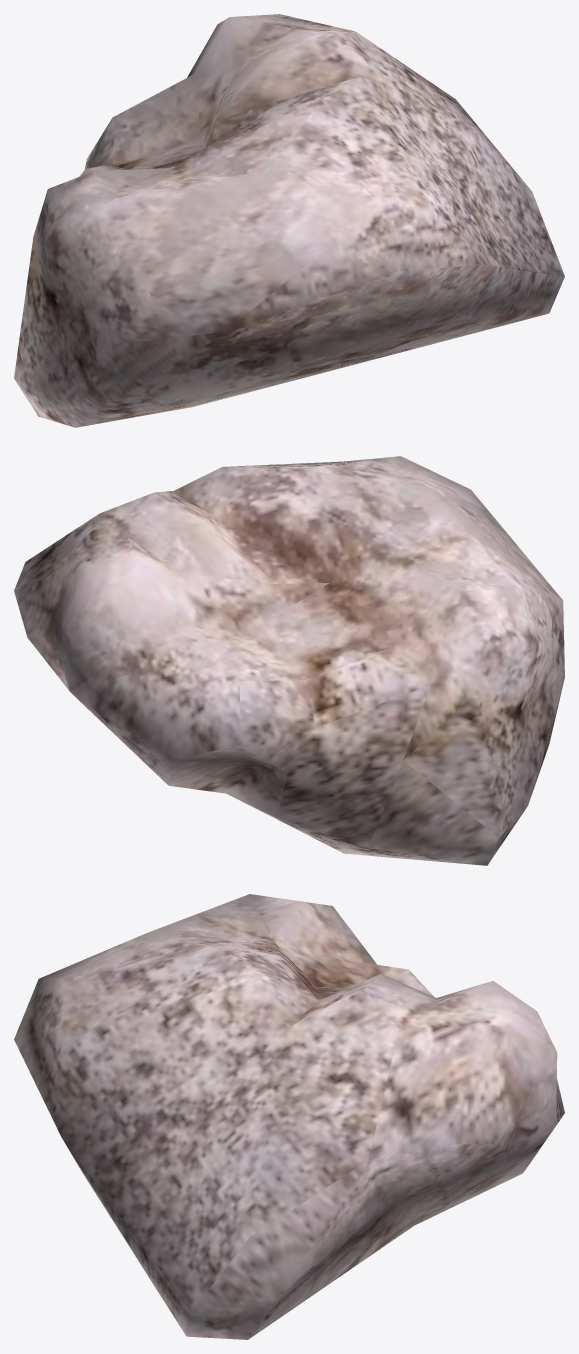
The model's file is rock059.glb.
The picture shows the model from 3 angles, top to bottom: view 1: azimuth 30°, elevation 25°; view 2: azimuth 150°, elevation 25°; view 3: azimuth 270°, elevation 25°; orthographic projection. The views are drawn at different scales.
Visible parts, largest first — view 1: rock059; view 2: rock059; view 3: rock059.
Part boxes in pixels (box(x1,y1,x2,y2)): rock059: box(14, 14, 564, 427); rock059: box(14, 456, 564, 865); rock059: box(14, 894, 564, 1339).
Bounding box in the file's own units: 0.9515 × 0.588 × 0.8671.
Materials: 1 (1 with a texture image).
